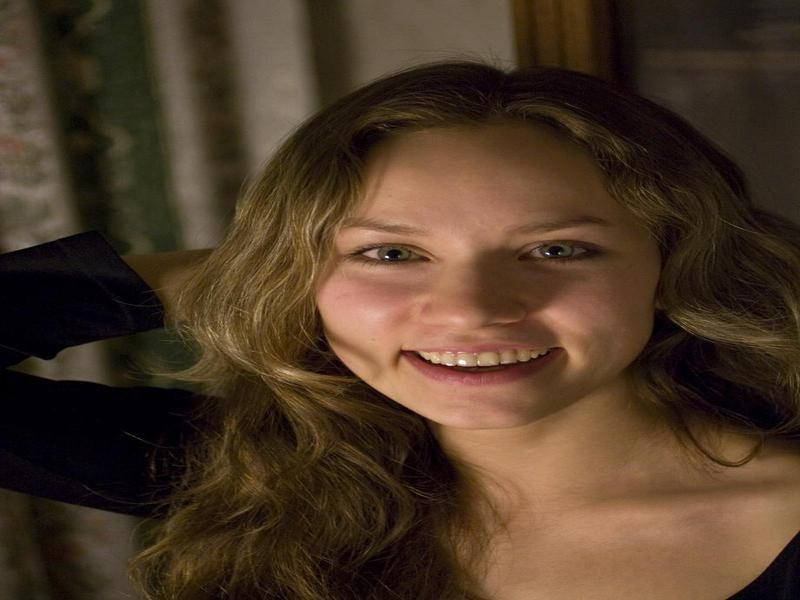person: (1, 62, 800, 592)
